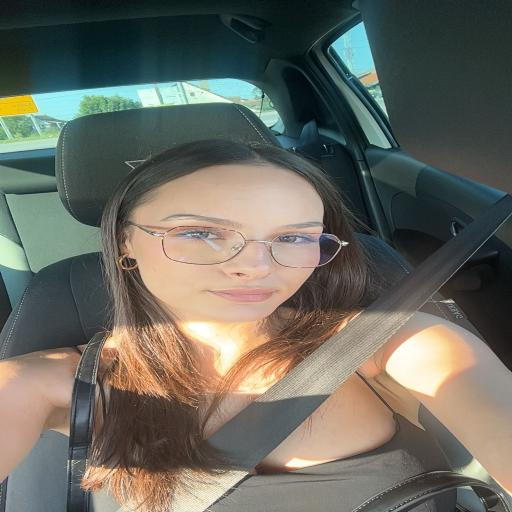marija: (138, 166, 329, 328)
